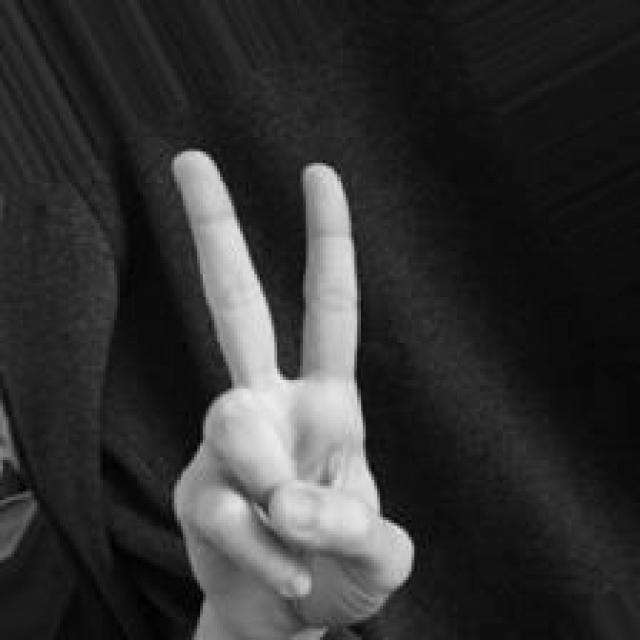V: (163, 138, 417, 640)
